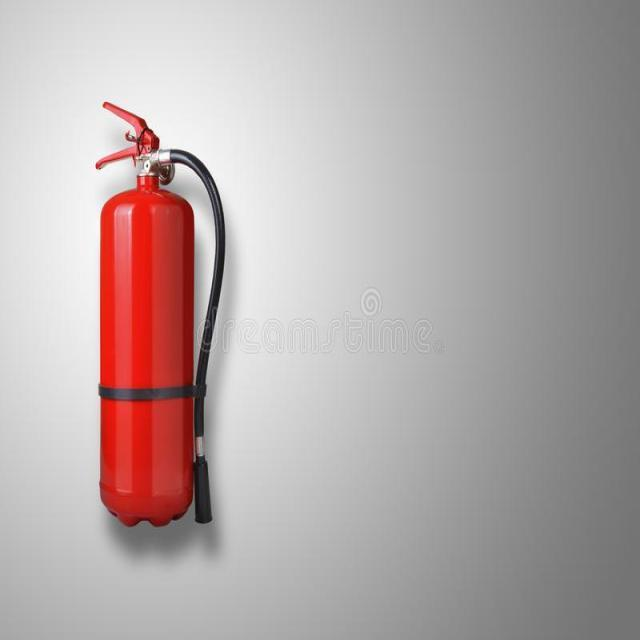fire_extinguisher: (91, 95, 226, 536)
